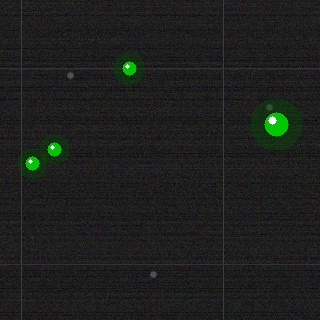green_normal: (262, 110, 290, 138), (45, 140, 63, 158), (120, 59, 138, 77), (23, 154, 41, 172)
